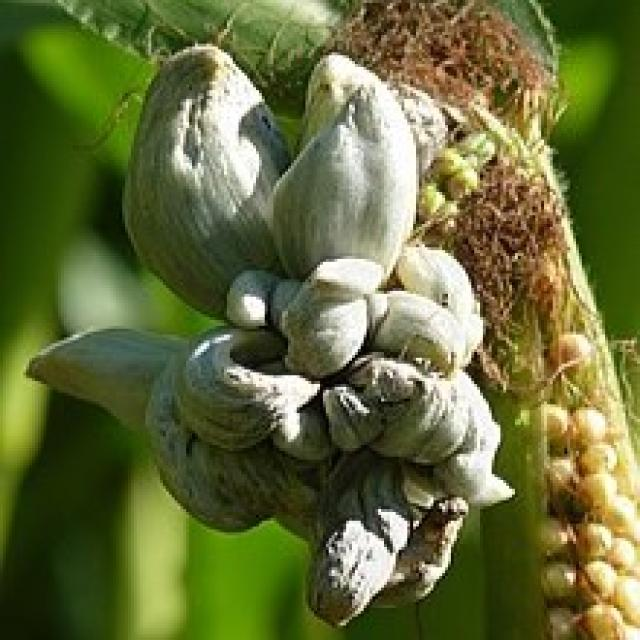Leaf_Scald: (72, 34, 618, 605)
